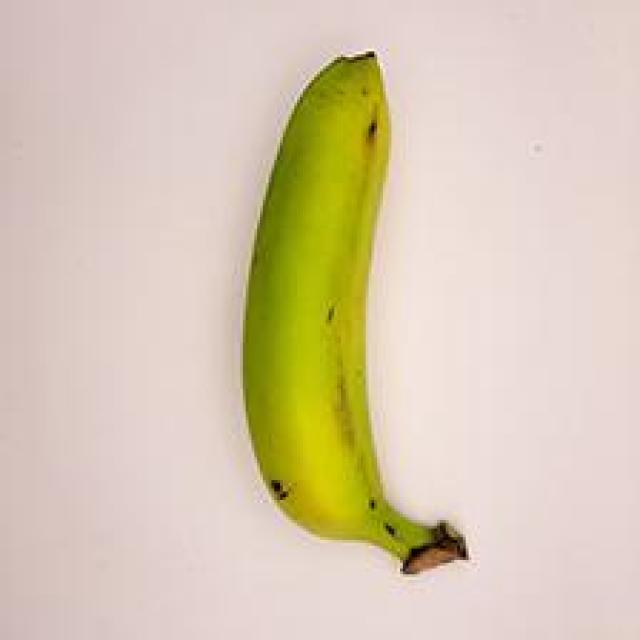Unripe: (188, 44, 500, 585)
